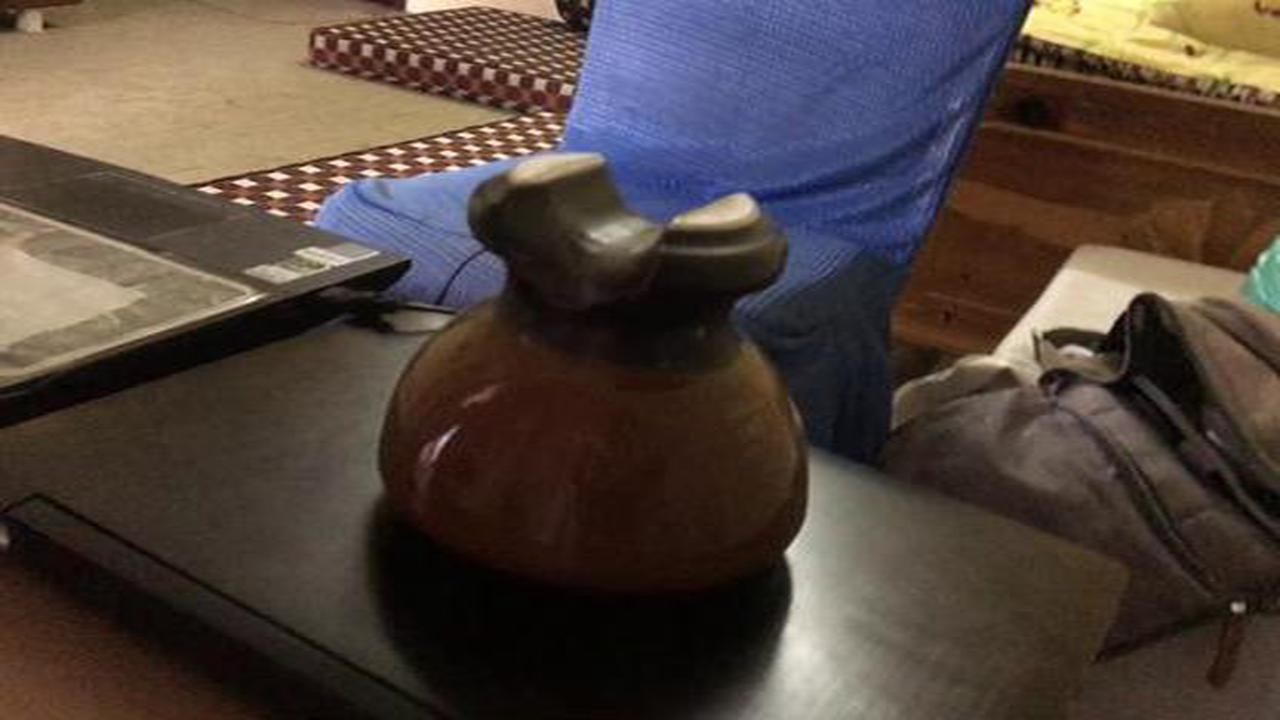insulator_pin: (366, 130, 825, 622)
